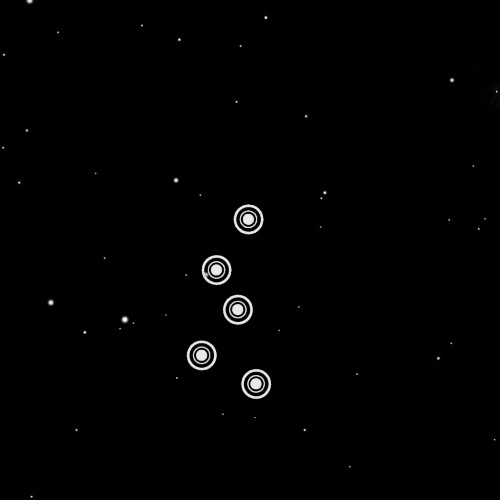cassiopeia: (174, 191, 286, 416)
